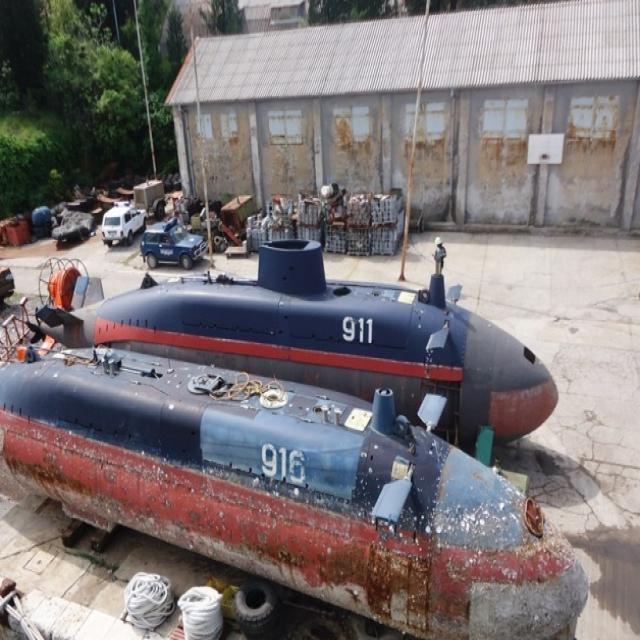submarine: (1, 347, 588, 640), (19, 243, 548, 453)
